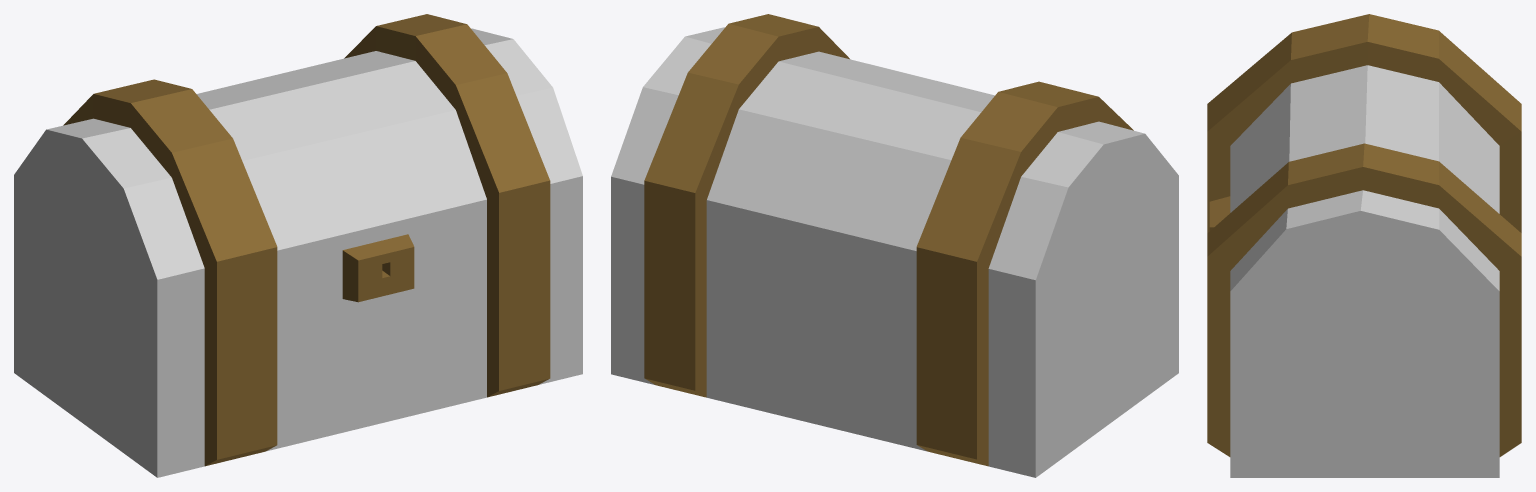
The model's file is chest.fbx.
3 renders of one model, left to right at view 1: azimuth 30°, elevation 25°; view 2: azimuth 150°, elevation 25°; view 3: azimuth 270°, elevation 25°, orthographic. The views are drawn at different scales.
Parts seen in each view (by area): view 1: Cube; view 2: Cube; view 3: Cube.
Boxes of the visible parts, box(x1,y1,x2,y2) form: Cube: box(14, 14, 582, 477); Cube: box(611, 14, 1178, 477); Cube: box(1207, 14, 1521, 477).
Size of the model in its own units: 2.02 by 1.4 by 1.38.
